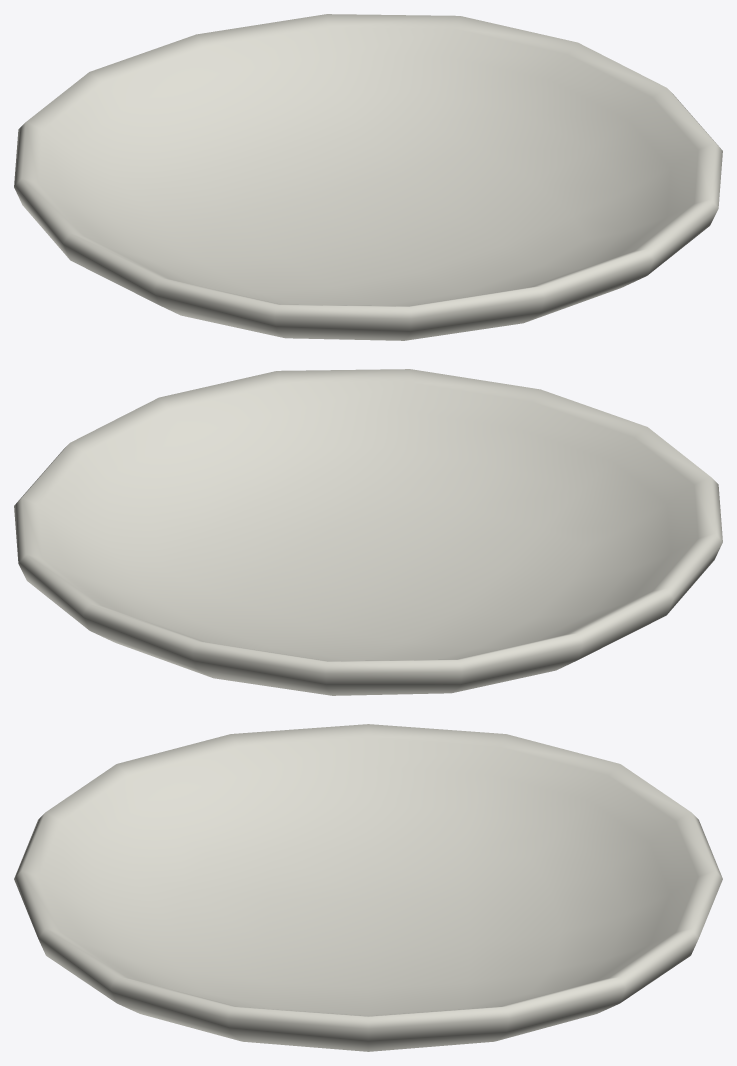
The model's file is Prato.fbx.
The picture shows the model from 3 angles, top to bottom: view 1: azimuth 30°, elevation 25°; view 2: azimuth 150°, elevation 25°; view 3: azimuth 270°, elevation 25°; orthographic projection.
Parts seen in each view (by area): view 1: Prato; view 2: Prato; view 3: Prato.
Boxes of the visible parts, box(x1,y1,x2,y2) form: Prato: box(14, 14, 722, 340); Prato: box(14, 369, 722, 695); Prato: box(14, 724, 722, 1051).
Size of the model in its own units: 20.77 by 2.77 by 20.77.
1 material, 1 textured.
